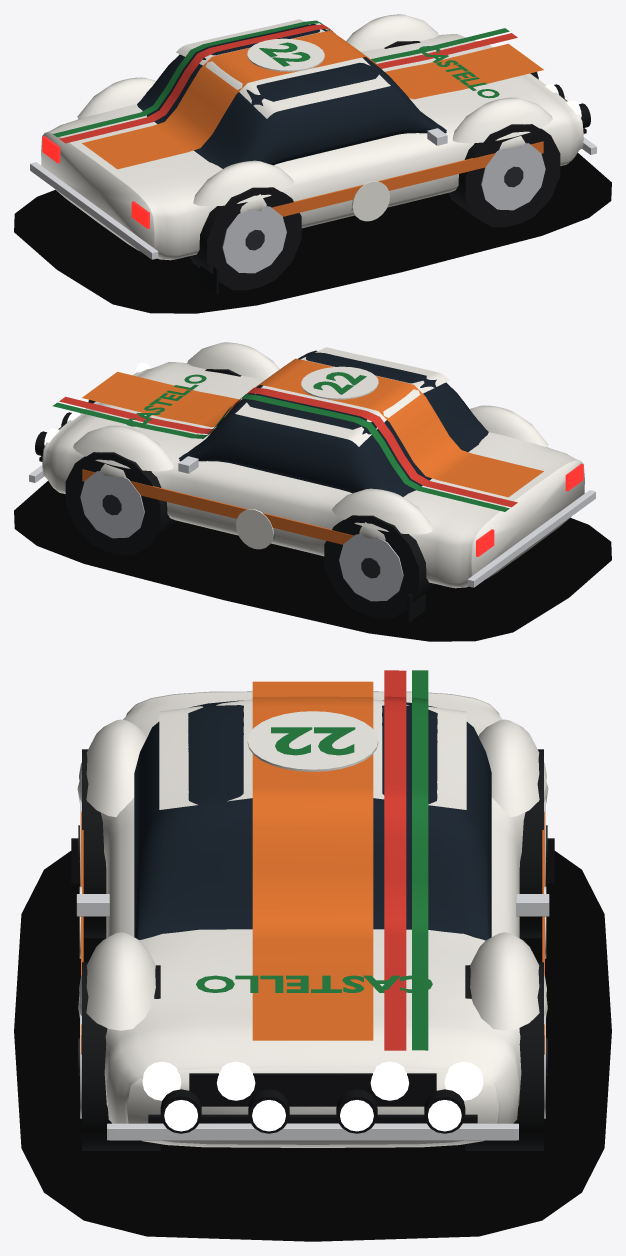
File: car-2.glb
3 views of the same model, one above another, from view 1: azimuth 30°, elevation 25°; view 2: azimuth 150°, elevation 25°; view 3: azimuth 270°, elevation 25° (orthographic). The views are drawn at different scales.
Visible parts, largest first — view 1: car-2; view 2: car-2; view 3: car-2.
Part boxes in pixels (bbox=[...]): car-2: bbox=[14, 14, 611, 313]; car-2: bbox=[14, 342, 611, 641]; car-2: bbox=[14, 670, 611, 1241].
Size of the model in its own units: 3.8 by 1.15 by 2.28.
